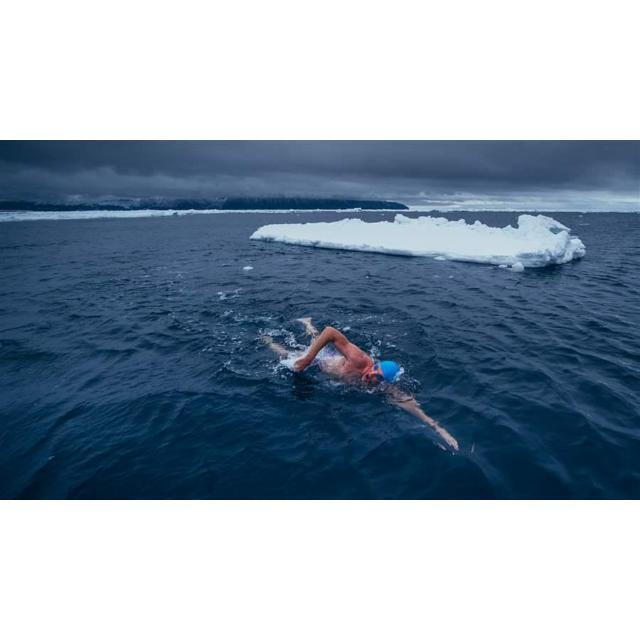human: (260, 313, 463, 451)
